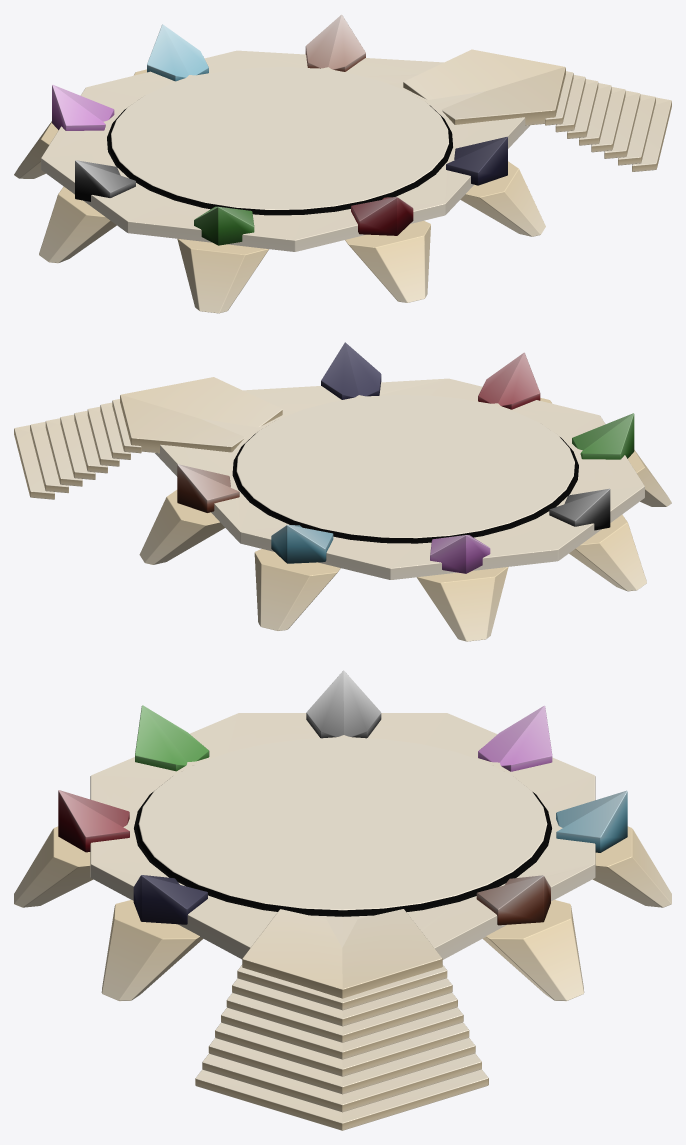
File: new_summon_platform.gltf
3 views of the same model, one above another, from view 1: azimuth 30°, elevation 25°; view 2: azimuth 150°, elevation 25°; view 3: azimuth 270°, elevation 25° (orthographic). The views are drawn at different scales.
Parts seen in each view (by area): view 1: summoning_platform; view 2: summoning_platform; view 3: summoning_platform.
Part boxes in pixels (x1,y1,x2,y2): summoning_platform: (14, 14, 671, 313); summoning_platform: (14, 342, 671, 641); summoning_platform: (14, 670, 671, 1130).
Size of what is drawn, in the model's own units: 7.73 by 1.08 by 5.82.
Materials: 1 (1 with a texture image).
